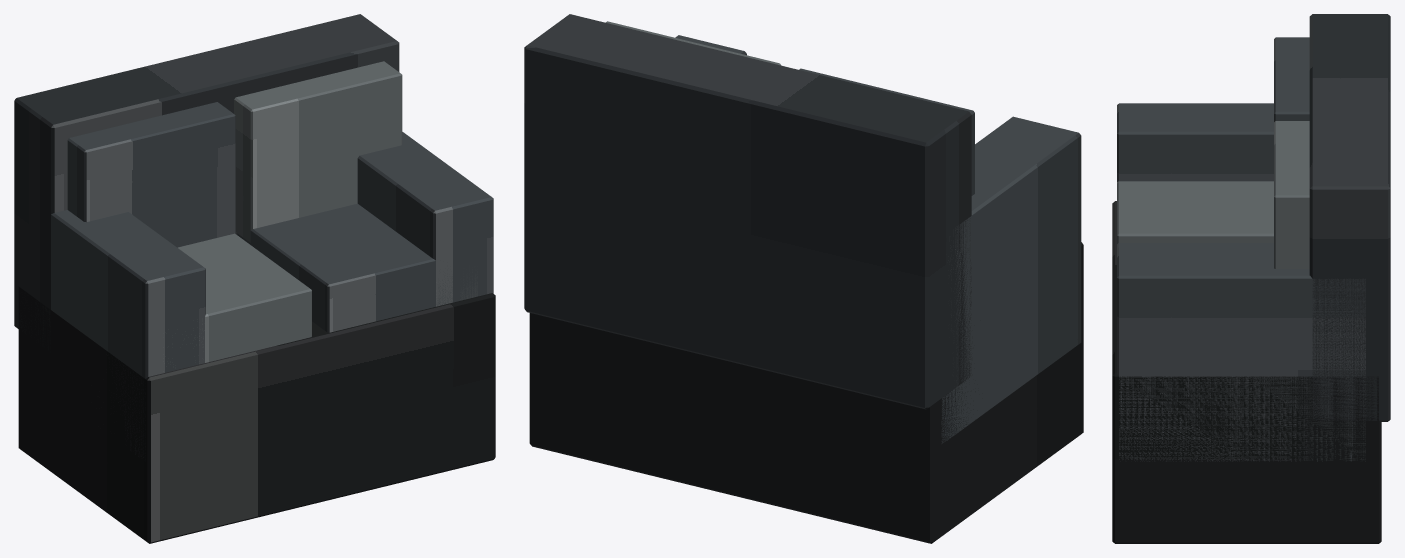
The model's file is lounge_couch_black.glb.
3 renders of one model, left to right at view 1: azimuth 30°, elevation 25°; view 2: azimuth 150°, elevation 25°; view 3: azimuth 270°, elevation 25°, orthographic. The views are drawn at different scales.
Parts seen in each view (by area): view 1: CouchBase, CouchBack, BackCushion_2, CouchArm_L, BackCushion_1, SeatCushion_2, CouchArm_R, SeatCushion_1; view 2: CouchBack, CouchBase, CouchArm_L, BackCushion_1; view 3: CouchBase, CouchArm_R, CouchBack, CouchArm_L, SeatCushion_1, BackCushion_2, BackCushion_1, SeatCushion_2.
Part boxes in pixels (bbox=[...]): CouchBase: bbox=[18, 286, 495, 543]; CouchBack: bbox=[14, 14, 399, 349]; BackCushion_2: bbox=[234, 61, 402, 242]; CouchArm_L: bbox=[51, 210, 205, 459]; BackCushion_1: bbox=[67, 102, 235, 247]; SeatCushion_2: bbox=[237, 203, 477, 332]; CouchArm_R: bbox=[357, 132, 493, 306]; SeatCushion_1: bbox=[178, 233, 311, 362]; CouchBack: bbox=[524, 14, 971, 409]; CouchBase: bbox=[529, 242, 1083, 543]; CouchArm_L: bbox=[941, 116, 1081, 443]; BackCushion_1: bbox=[799, 68, 974, 195]; CouchBase: bbox=[1112, 201, 1381, 543]; CouchArm_R: bbox=[1117, 247, 1365, 461]; CouchBack: bbox=[1309, 14, 1390, 421]; CouchArm_L: bbox=[1117, 103, 1273, 181]; SeatCushion_1: bbox=[1117, 181, 1273, 243]; BackCushion_2: bbox=[1274, 121, 1309, 269]; BackCushion_1: bbox=[1274, 37, 1309, 121]; SeatCushion_2: bbox=[1117, 243, 1273, 248].
Bounding box in the file's own units: 0.92 × 0.91 × 0.62.
Materials: 1 (1 with a texture image).
